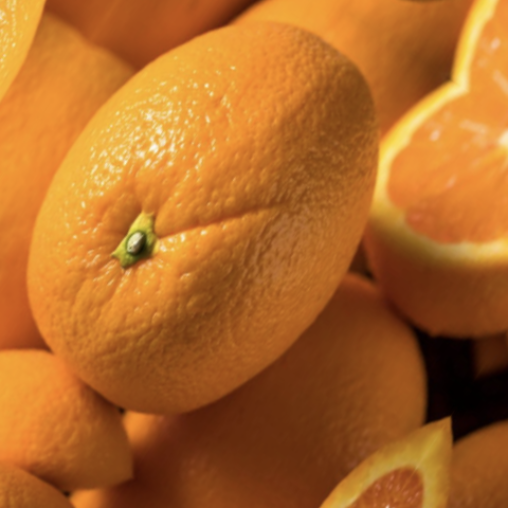orange: (0, 0, 476, 497)
